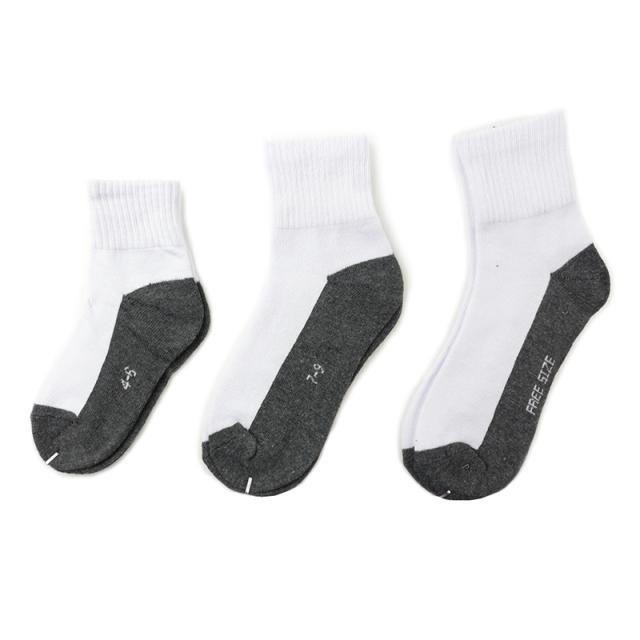sock: (400, 107, 610, 500), (201, 133, 404, 496), (29, 178, 210, 474)
